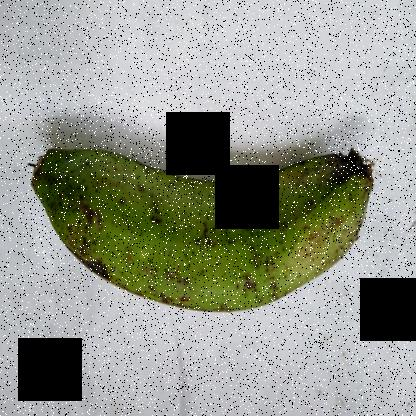unripe: (32, 105, 388, 333)
